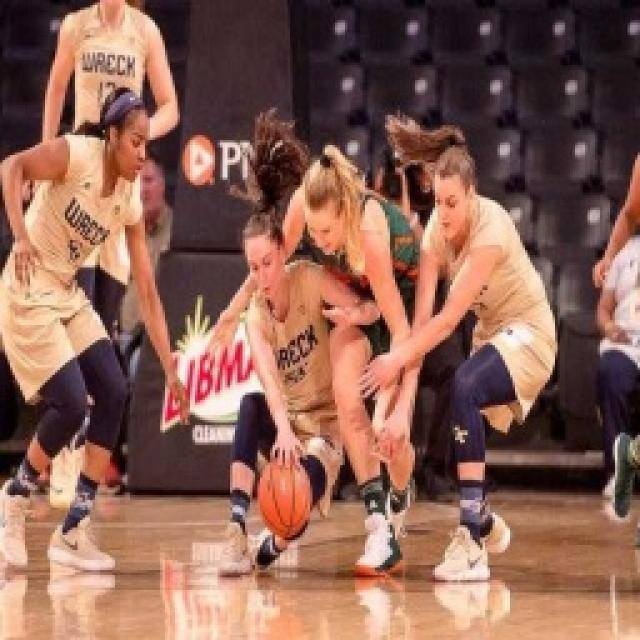rim: (256, 449, 316, 538)
